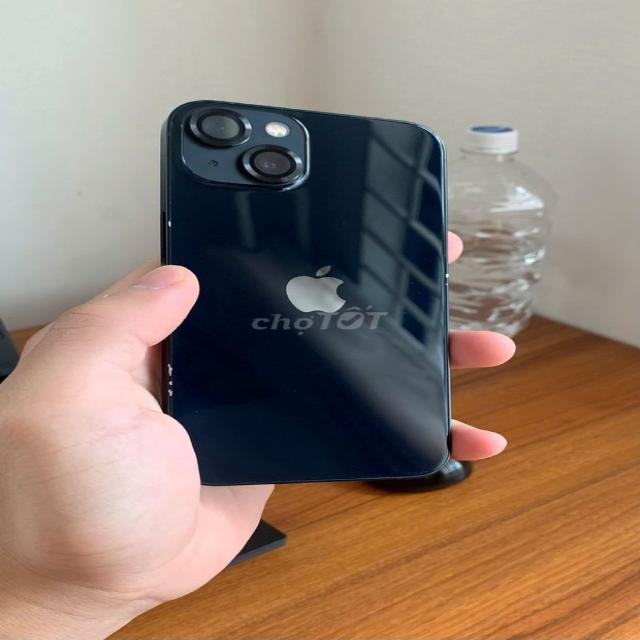gen_12_13: (138, 80, 472, 498)
